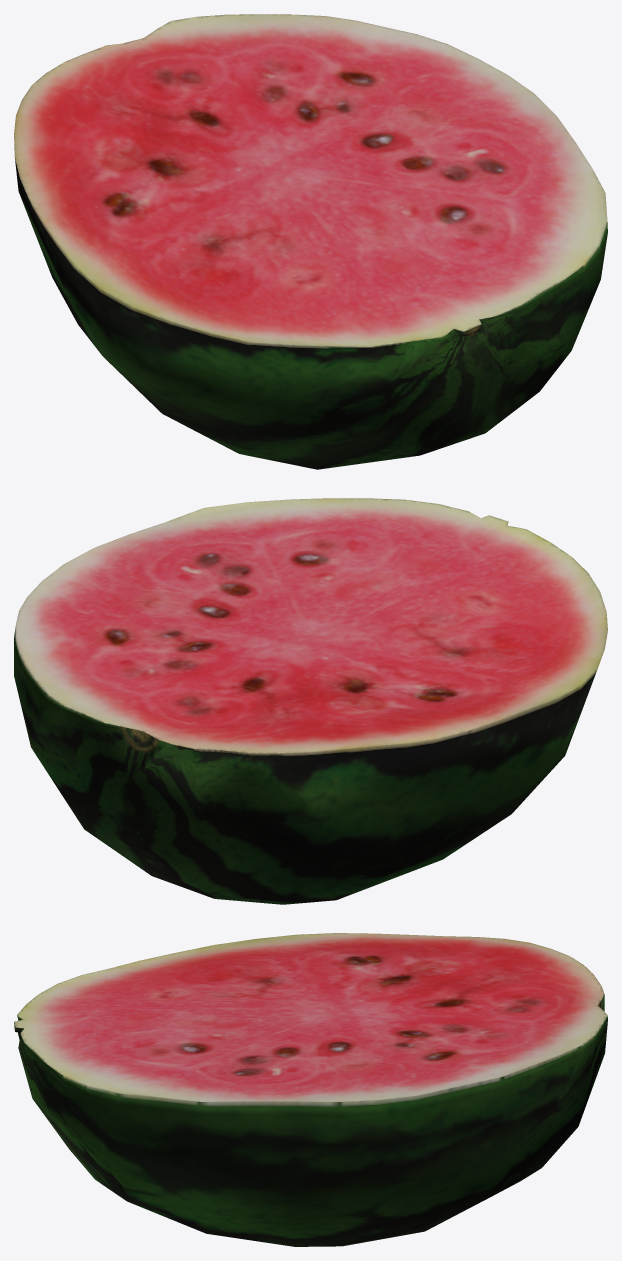
Rendered from water melon.glb.
The picture shows the model from 3 angles, top to bottom: view 1: azimuth 30°, elevation 25°; view 2: azimuth 150°, elevation 25°; view 3: azimuth 270°, elevation 25°; orthographic projection. The views are drawn at different scales.
Visible parts, largest first — view 1: Watermelon half a; view 2: Watermelon half a; view 3: Watermelon half a.
Boxes of the visible parts, x1,y1,x2,y2 form: Watermelon half a: [14, 14, 607, 469]; Watermelon half a: [14, 498, 607, 904]; Watermelon half a: [14, 933, 607, 1246].
Bounding box in the file's own units: 2.18 × 1.16 × 2.75.
Materials: 1 (1 with a texture image).
